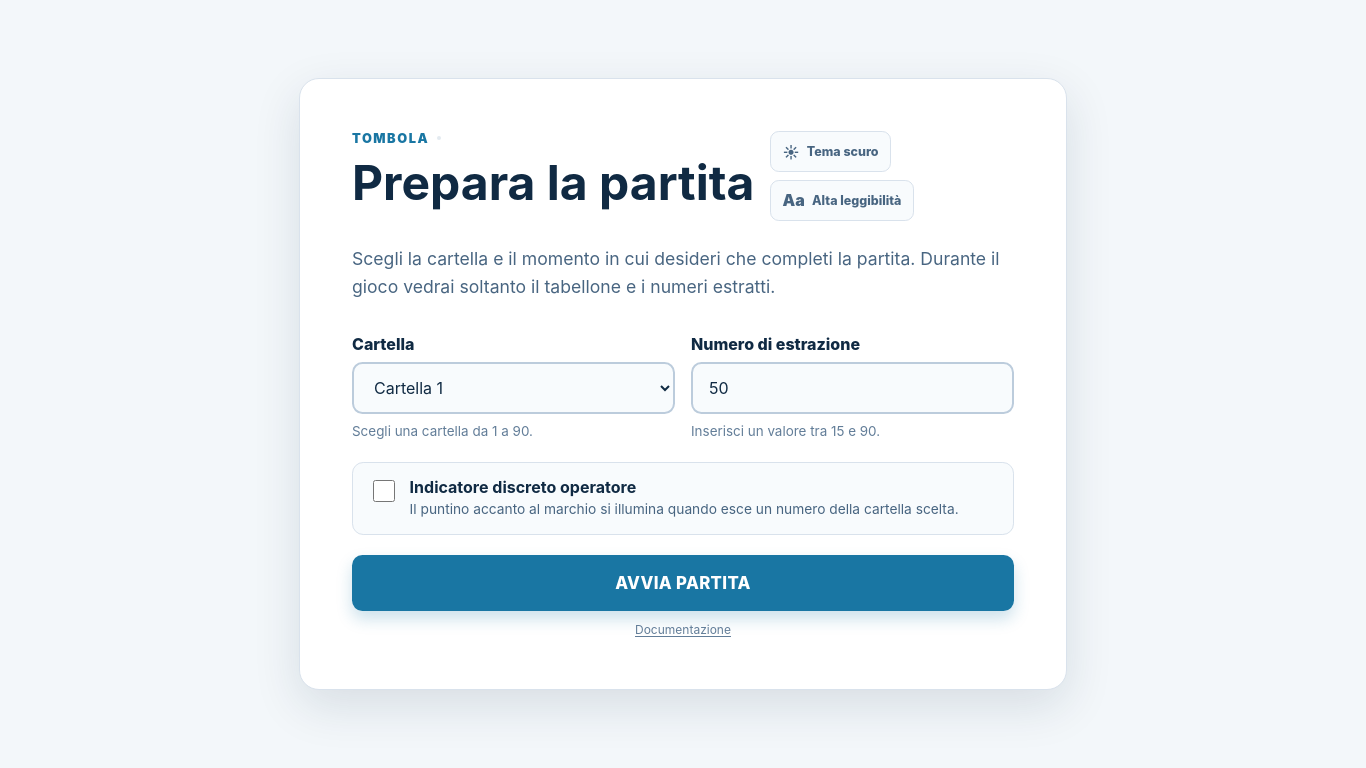
App UI › shows a small documentation link only in the pre-game setup
The image size is (1366, 768).
Expected: the link with class "documentation-link" reads "Documentazione", [635, 623, 731, 637]
Click the button "Avvia partita": (683,583) [352, 555, 1014, 611]
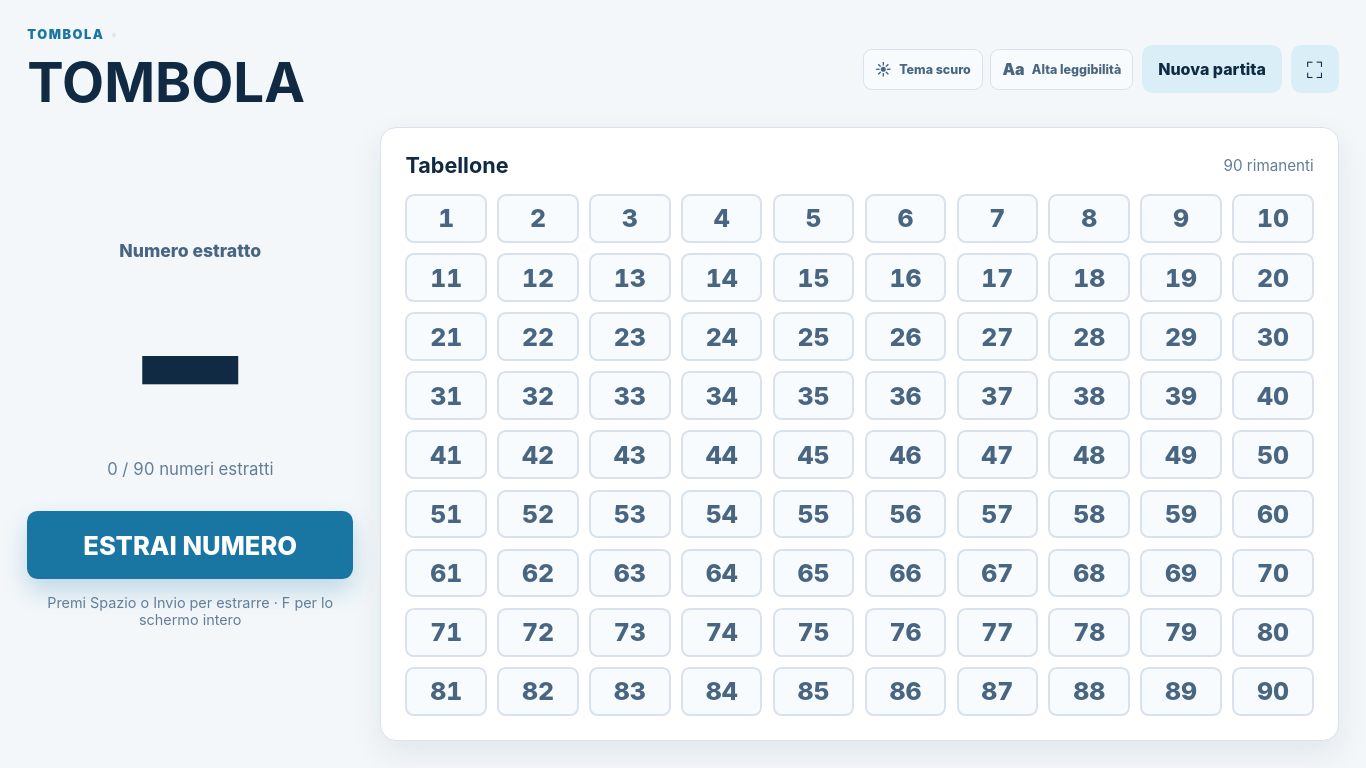
Expected: the link with class "documentation-link" is gone
